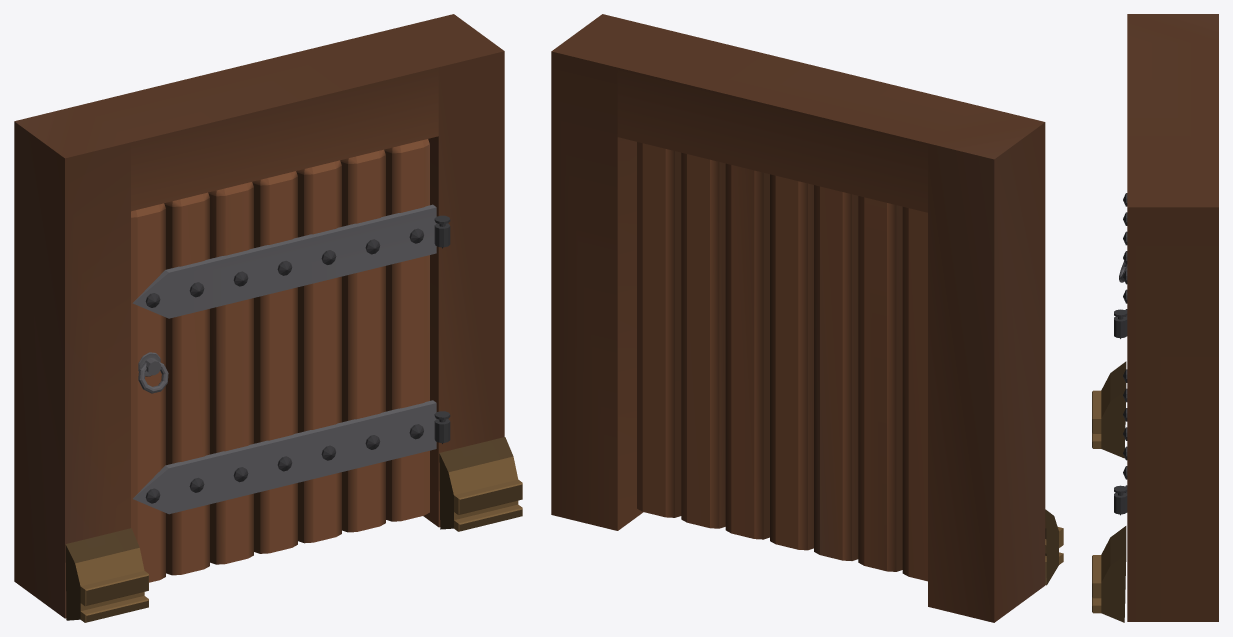
Rendered from portaMad_lab_LoPo.fbx.
3 views of the same model, side by side, from view 1: azimuth 30°, elevation 25°; view 2: azimuth 150°, elevation 25°; view 3: azimuth 270°, elevation 25° (orthographic). The views are drawn at different scales.
Parts seen in each view (by area): view 1: portaMadeira_laboratorio_loPo, rodapePorta_laboratorio_LoPo; view 2: portaMadeira_laboratorio_loPo, rodapePorta_laboratorio_LoPo; view 3: portaMadeira_laboratorio_loPo, rodapePorta_laboratorio_LoPo.
Boxes of the visible parts, x1=… form: portaMadeira_laboratorio_loPo: x1=14, y1=14, x2=504, y2=618; rodapePorta_laboratorio_LoPo: x1=65, y1=437, x2=522, y2=622; portaMadeira_laboratorio_loPo: x1=551, y1=14, x2=1045, y2=622; rodapePorta_laboratorio_LoPo: x1=1045, y1=509, x2=1063, y2=585; portaMadeira_laboratorio_loPo: x1=1114, y1=14, x2=1218, y2=621; rodapePorta_laboratorio_LoPo: x1=1092, y1=361, x2=1126, y2=622.
Bounding box in the file's own units: 200 × 200 × 55.47.
